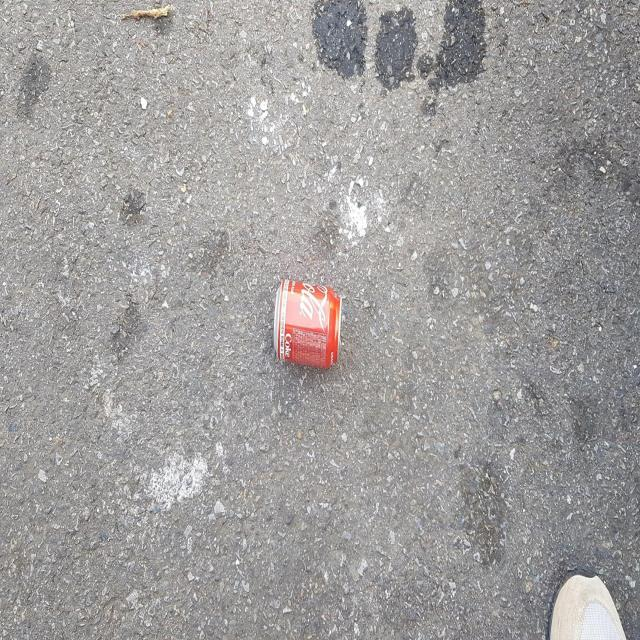can: (274, 277, 342, 368)
